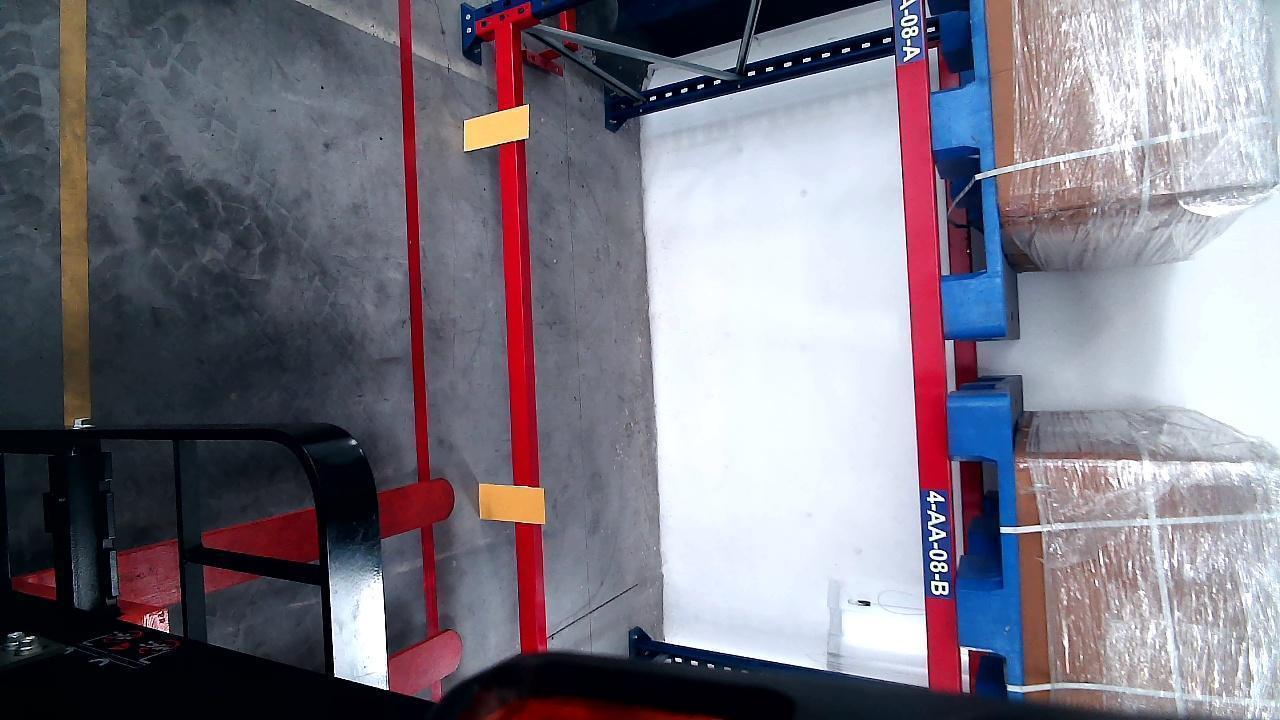red_line: (398, 0, 434, 494)
yellow_line: (58, 0, 92, 422)
